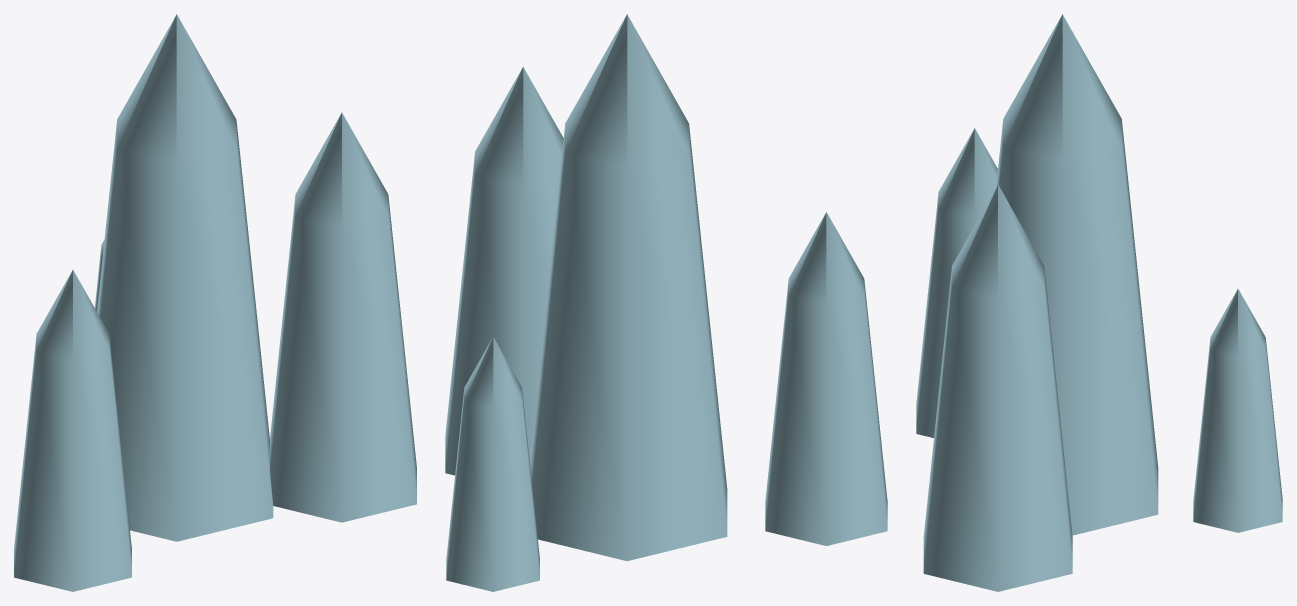
File: st_snow_crystal.glb
3 views of the same model, side by side, from view 1: azimuth 30°, elevation 25°; view 2: azimuth 150°, elevation 25°; view 3: azimuth 270°, elevation 25° (orthographic). The views are drawn at different scales.
Visible parts, largest first — view 1: Crystal_Cluster; view 2: Crystal_Cluster; view 3: Crystal_Cluster.
Boxes of the visible parts, bbox=[...] form: Crystal_Cluster: bbox=[14, 14, 416, 591]; Crystal_Cluster: bbox=[445, 14, 887, 591]; Crystal_Cluster: bbox=[916, 14, 1282, 591].
Bounding box in the file's own units: 0.8125 × 0.9 × 0.6264.
